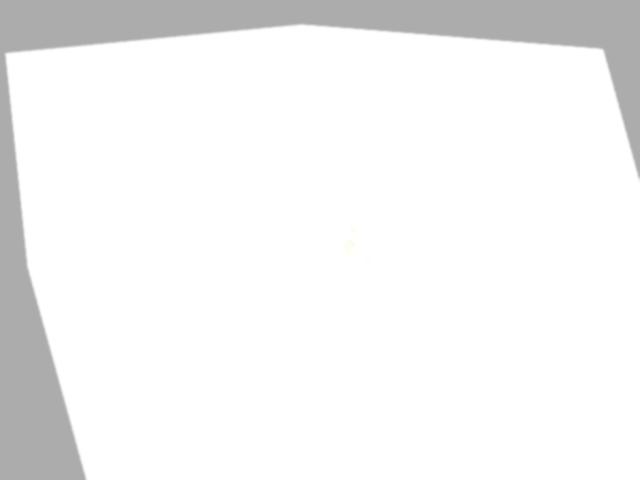uav: (319, 199, 378, 271)
